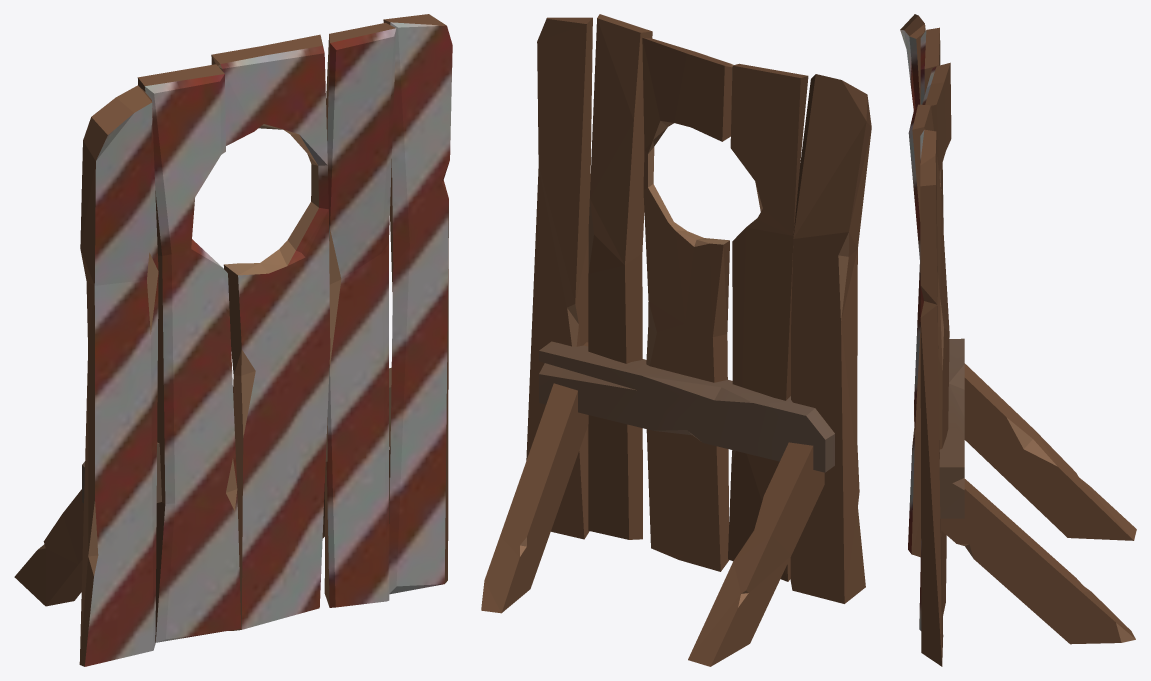
The model's file is pie-wall.glb.
3 renders of one model, left to right at view 1: azimuth 30°, elevation 25°; view 2: azimuth 150°, elevation 25°; view 3: azimuth 270°, elevation 25°, orthographic. The views are drawn at different scales.
Parts seen in each view (by area): view 1: SM_Prop_Pie_Throwing_Wall_01; view 2: SM_Prop_Pie_Throwing_Wall_01; view 3: SM_Prop_Pie_Throwing_Wall_01.
Boxes of the visible parts, x1,y1,x2,y2 form: SM_Prop_Pie_Throwing_Wall_01: [14, 14, 452, 666]; SM_Prop_Pie_Throwing_Wall_01: [481, 14, 871, 666]; SM_Prop_Pie_Throwing_Wall_01: [900, 14, 1136, 666].
Bounding box in the file's own units: 148 × 219 × 92.47.
Materials: 1 (1 with a texture image).
